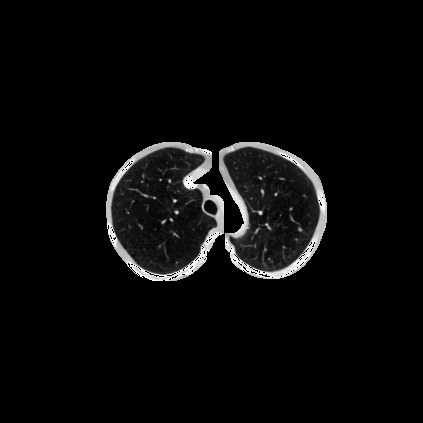PN: (298, 227, 302, 231)
